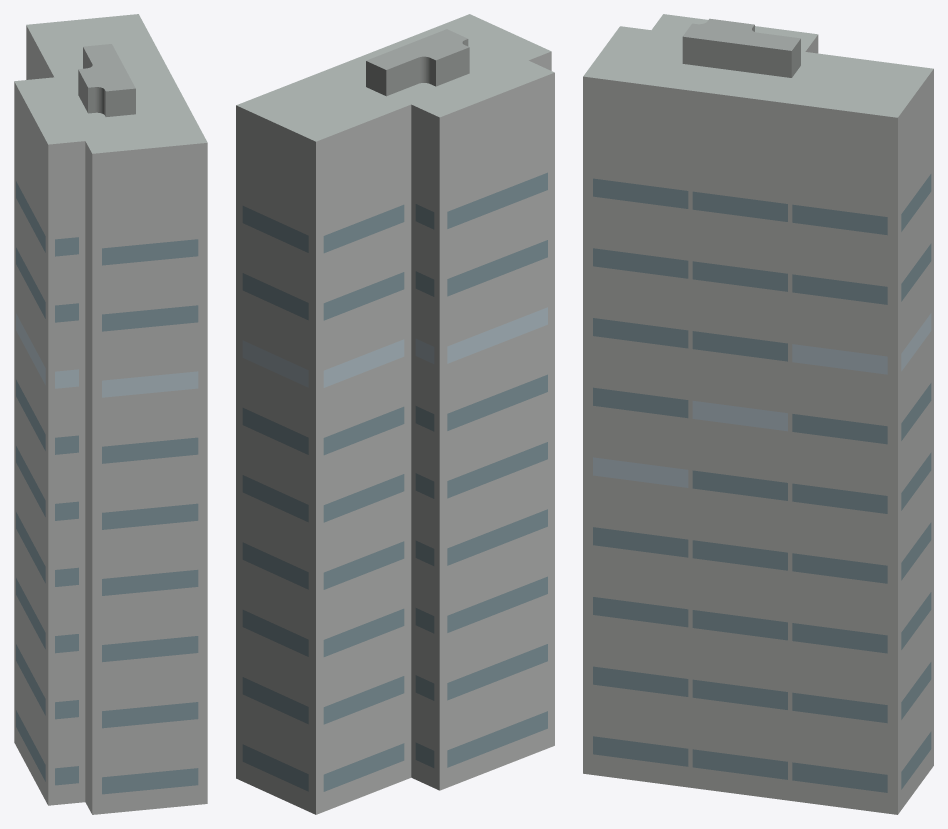
Rendered from fallback-dh-honor-hills-completion-314.glb.
3 views of the same model, side by side, from view 1: azimuth 30°, elevation 25°; view 2: azimuth 150°, elevation 25°; view 3: azimuth 270°, elevation 25° (orthographic). The views are drawn at different scales.
Visible parts, largest first — view 1: fallback-dh-honor-hills-completion-314; view 2: fallback-dh-honor-hills-completion-314; view 3: fallback-dh-honor-hills-completion-314.
Part boxes in pixels (x1=…): fallback-dh-honor-hills-completion-314: x1=14, y1=14, x2=207, y2=814; fallback-dh-honor-hills-completion-314: x1=236, y1=14, x2=554, y2=814; fallback-dh-honor-hills-completion-314: x1=583, y1=14, x2=933, y2=814.
Bounding box in the file's own units: 19.67 × 64 × 28.09.
